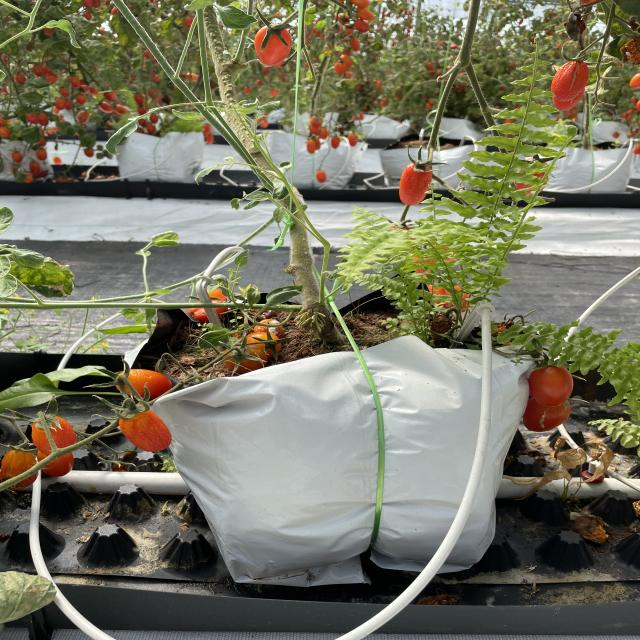Soilbag: (134, 313, 526, 592)
plant: (2, 3, 349, 497)
